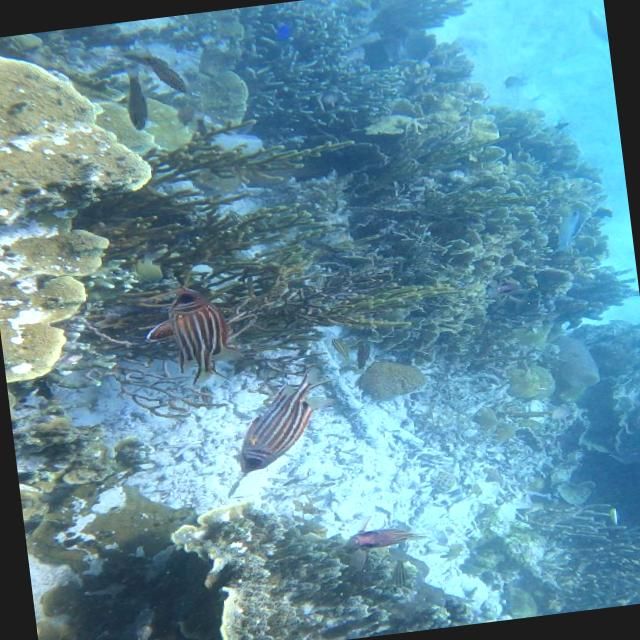Asker Baligi: (202, 354, 358, 486), (115, 255, 238, 398), (326, 508, 442, 566)
